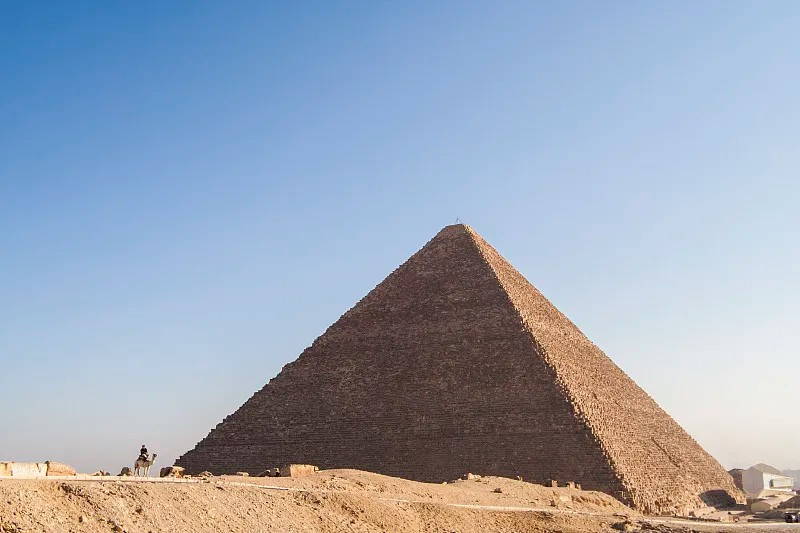Pyramid: (165, 217, 749, 509)
